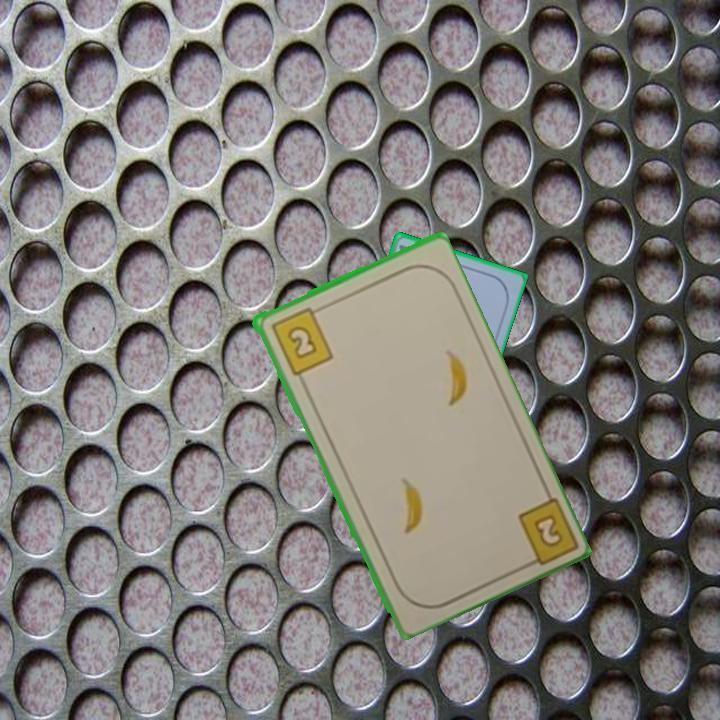2b: (513, 492, 578, 572), (267, 303, 336, 378)
